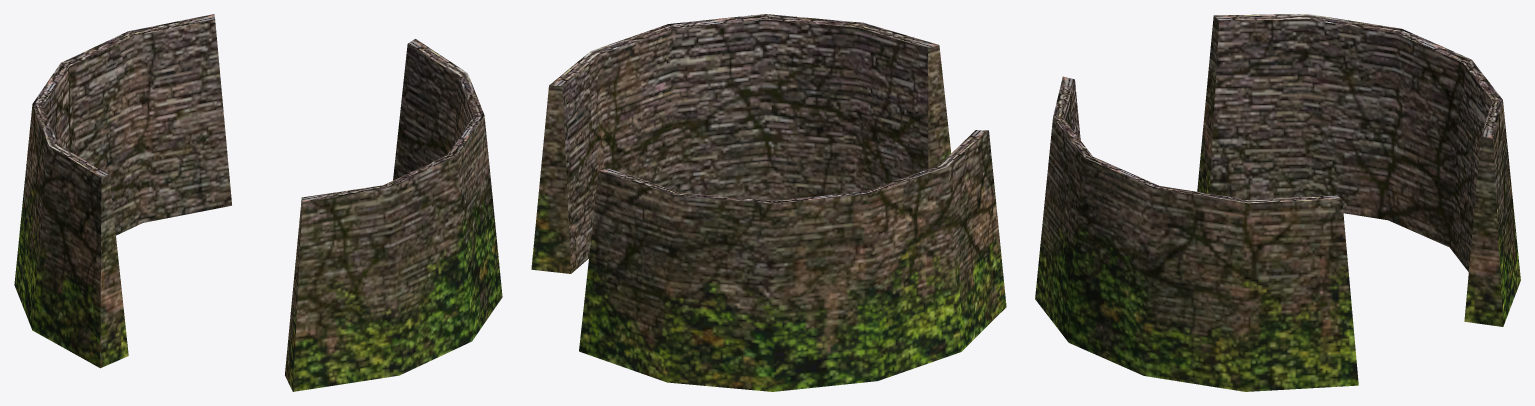
The model's file is celt_sb_walls.dae.
The picture shows the model from 3 angles, left to right: view 1: azimuth 30°, elevation 25°; view 2: azimuth 150°, elevation 25°; view 3: azimuth 270°, elevation 25°; orthographic projection.
Parts seen in each view (by area): view 1: special-Pivot; view 2: special-Pivot; view 3: special-Pivot.
Boxes of the visible parts, x1,y1,x2,y2 form: special-Pivot: (14,14,502,391); special-Pivot: (531,14,1006,391); special-Pivot: (1035,14,1520,391).
Size of the model in its own units: 9.55 by 9.6 by 3.99.
